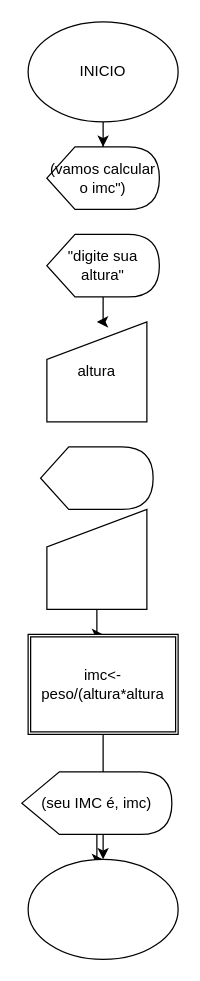
The diagram is 200 pixels wide and 981 high, and some of its shapes have lost their labels. Each missing label, with the centre of its shape:
("digite seu peso"): (x=96, y=477)
FIM: (x=102, y=908)
peso: (x=96, y=558)
